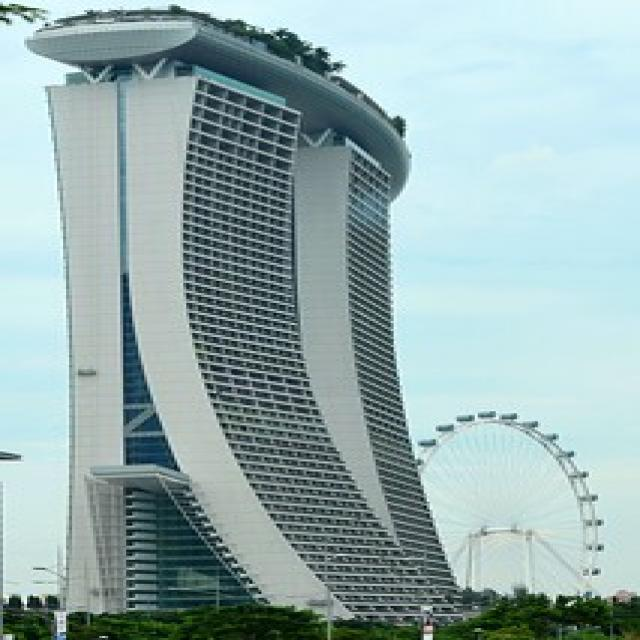Normal_building: (14, 4, 491, 634)
